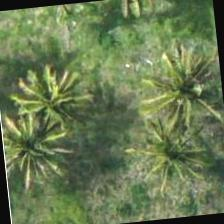Kelapa_Sawit: (0, 53, 99, 153), (122, 103, 221, 202), (134, 39, 223, 138), (0, 95, 78, 193)
